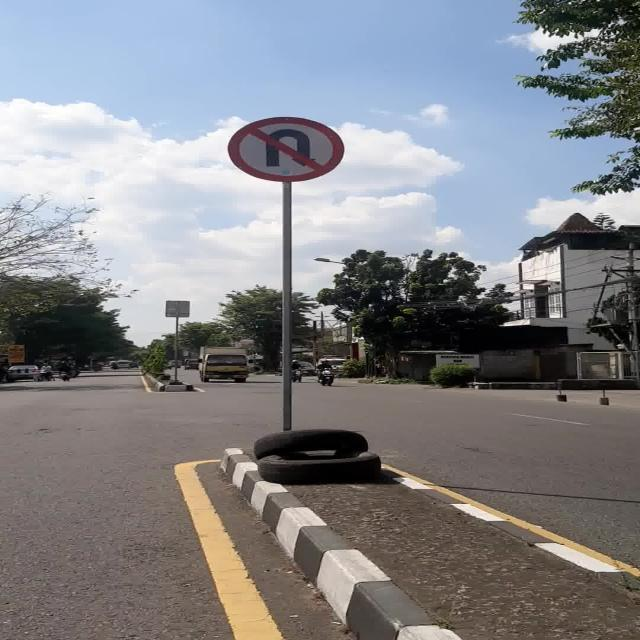Dilarang Putar Balik: (226, 116, 344, 182)
